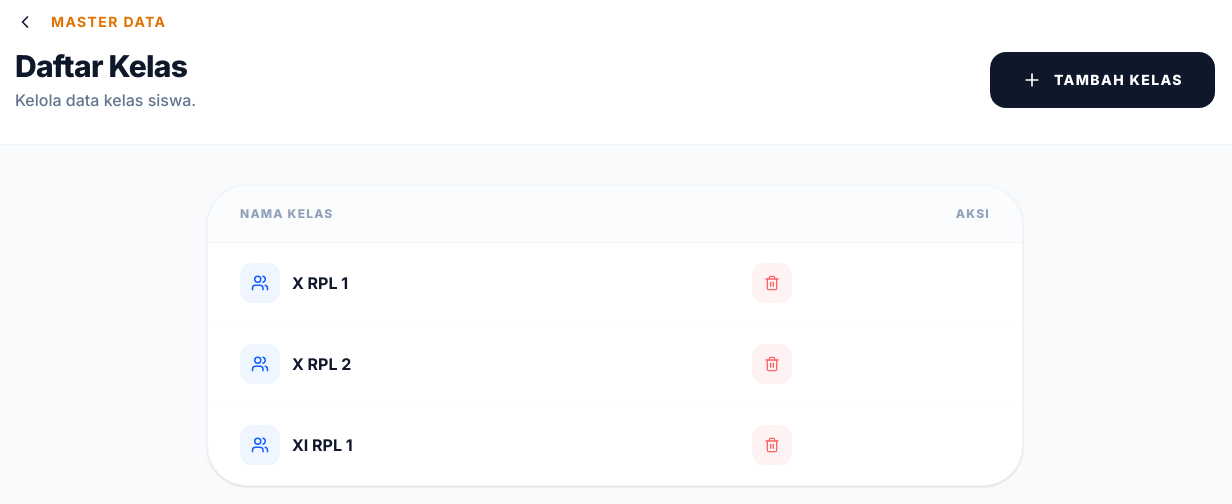
ClassesClient › shows loading state during delete
Step 1. Click the button without text in the row of "X RPL 1" → (772, 283), box [752,263,792,303]
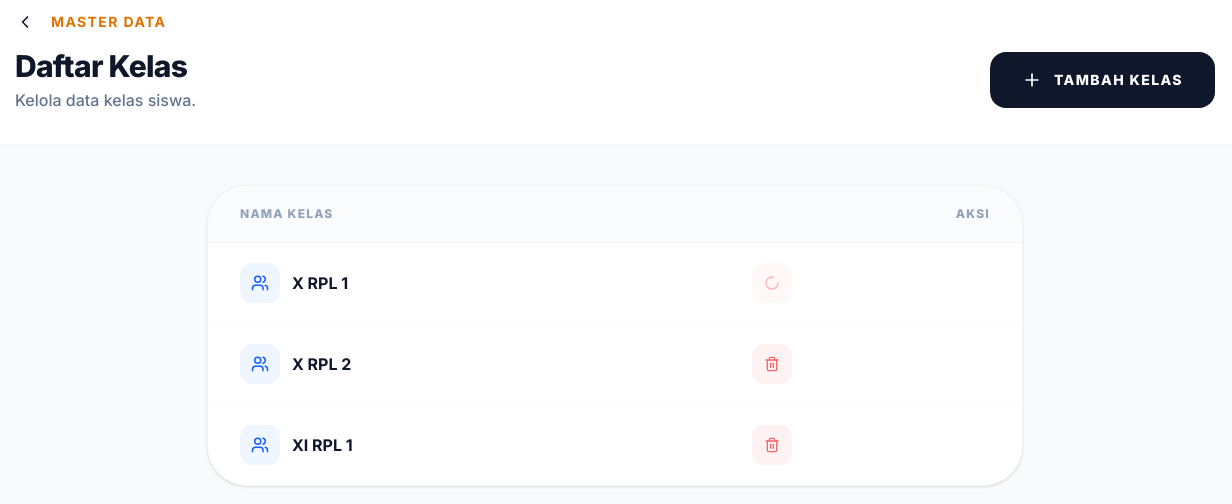
Now the icon with class "animate-spin" is shown, box [764,275,780,291]
